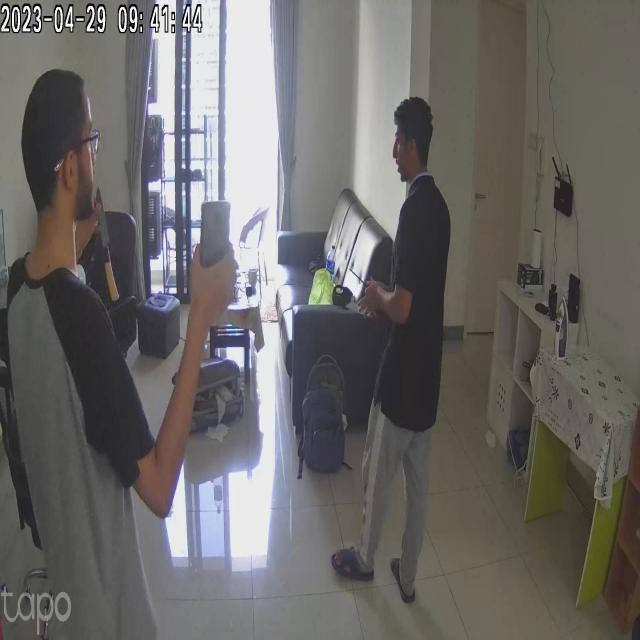Knife: (99, 201, 140, 307)
